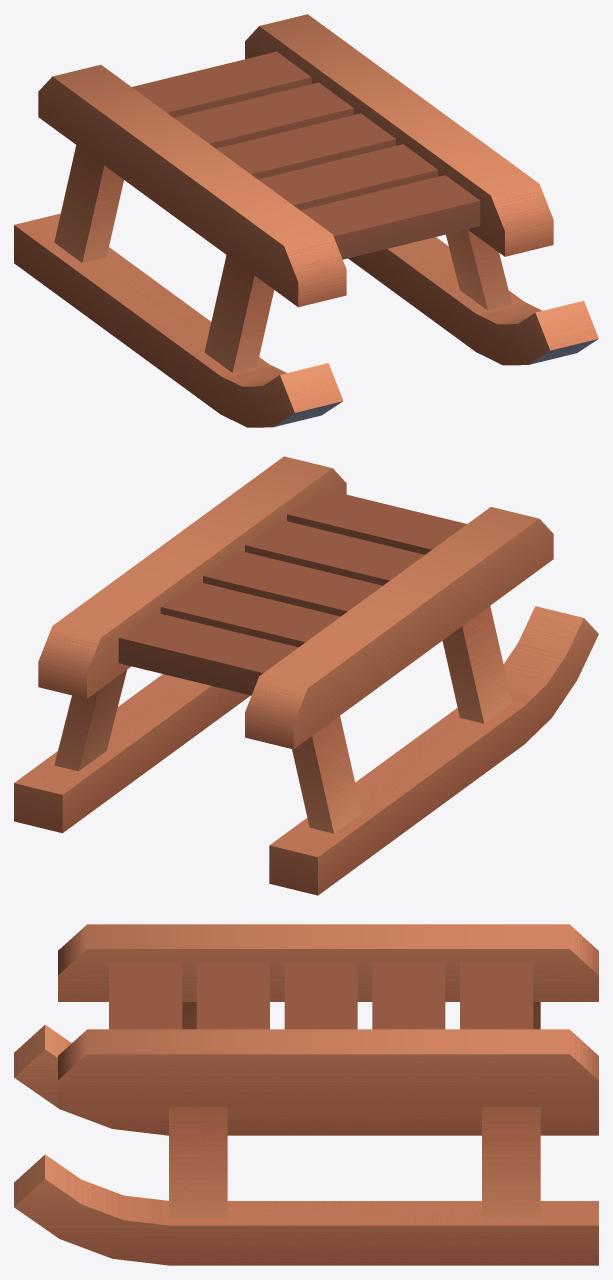
File: sled-long.glb
3 renders of one model, top to bottom at view 1: azimuth 30°, elevation 25°; view 2: azimuth 150°, elevation 25°; view 3: azimuth 270°, elevation 25°, orthographic. The views are drawn at different scales.
Parts seen in each view (by area): view 1: sled-long; view 2: sled-long; view 3: sled-long.
Part boxes in pixels (box(x1,y1,x2,y2)): sled-long: box(14, 14, 598, 427); sled-long: box(14, 456, 598, 895); sled-long: box(14, 924, 598, 1265).
Bounding box in the file's own units: 1.88 × 1.13 × 3.
1 material, 1 textured.
